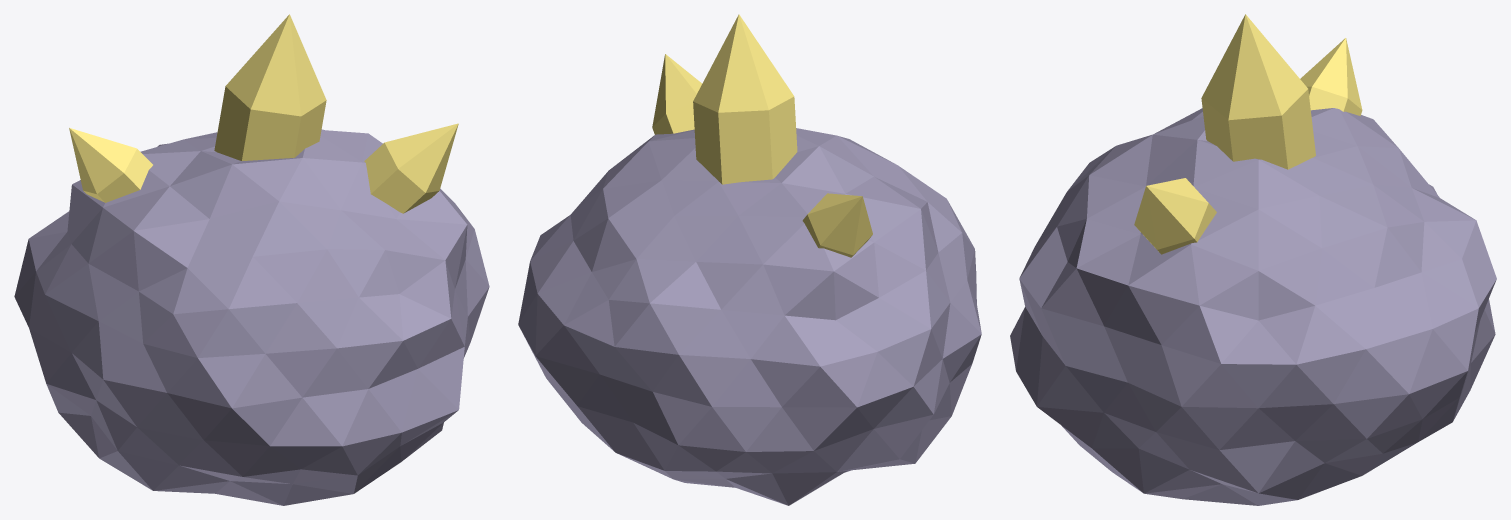
Rendered from Rock.gltf.
3 renders of one model, left to right at view 1: azimuth 30°, elevation 25°; view 2: azimuth 150°, elevation 25°; view 3: azimuth 270°, elevation 25°, orthographic. The views are drawn at different scales.
Parts seen in each view (by area): view 1: Rock; view 2: Rock; view 3: Rock.
Part boxes in pixels (x1,y1,x2,y2): Rock: (14, 14, 489, 505); Rock: (518, 14, 981, 505); Rock: (1010, 14, 1496, 505).
Size of the model in its own units: 1.79 by 1.95 by 1.81.
